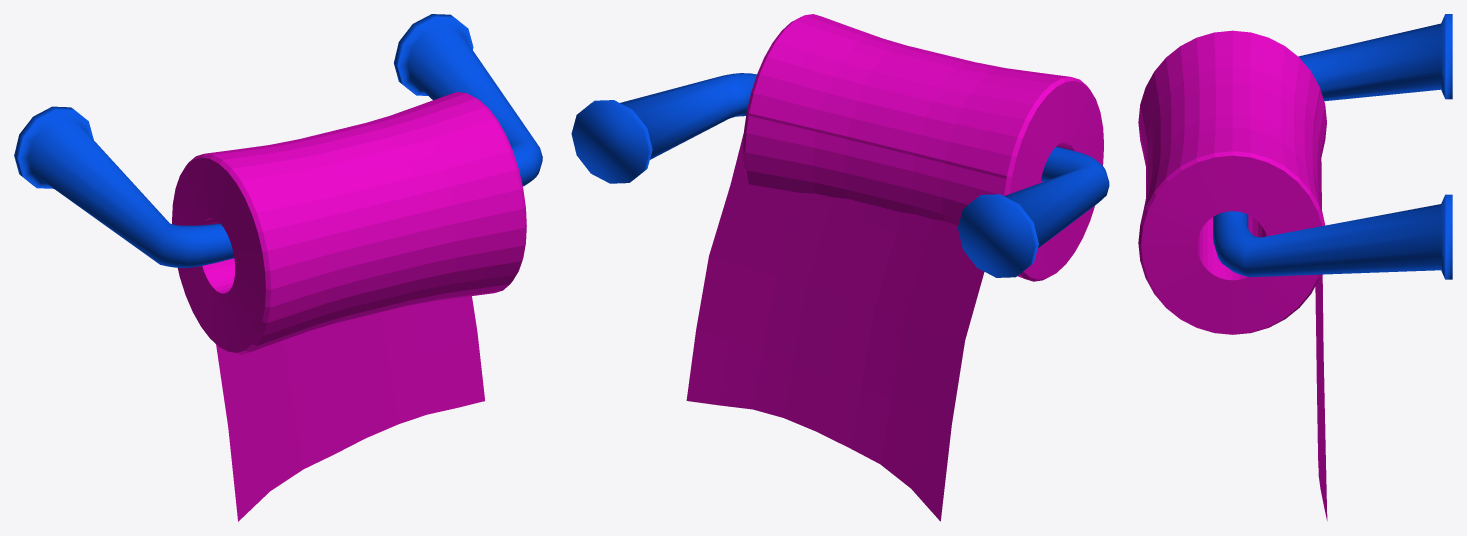
Rendered from papier toilette .glb.
3 views of the same model, side by side, from view 1: azimuth 30°, elevation 25°; view 2: azimuth 150°, elevation 25°; view 3: azimuth 270°, elevation 25° (orthographic). The views are drawn at different scales.
Visible parts, largest first — view 1: Cylinder.004, Cylinder.006, Rectangle; view 2: Cylinder.006, Cylinder.004, Rectangle; view 3: Cylinder.004, Rectangle, Cylinder.006.
Boxes of the visible parts, <box> form: Cylinder.004: <box>172,92,526,354</box>; Cylinder.006: <box>216,296,484,521</box>; Rectangle: <box>14,14,542,267</box>; Cylinder.006: <box>686,113,1006,521</box>; Cylinder.004: <box>743,14,1103,281</box>; Rectangle: <box>571,73,1109,277</box>; Cylinder.004: <box>1138,30,1326,334</box>; Rectangle: <box>1213,14,1452,279</box>; Cylinder.006: <box>1313,88,1327,520</box>.
Bounding box in the file's own units: 8.24 × 7.12 × 5.05.
